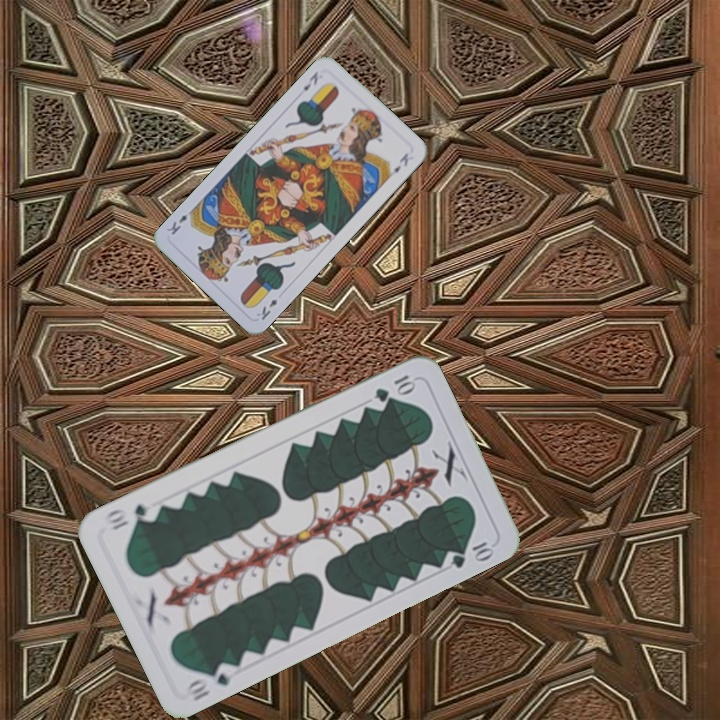EK: (252, 295, 280, 323), (299, 67, 321, 94)
G10: (181, 658, 236, 704), (370, 370, 418, 405)
